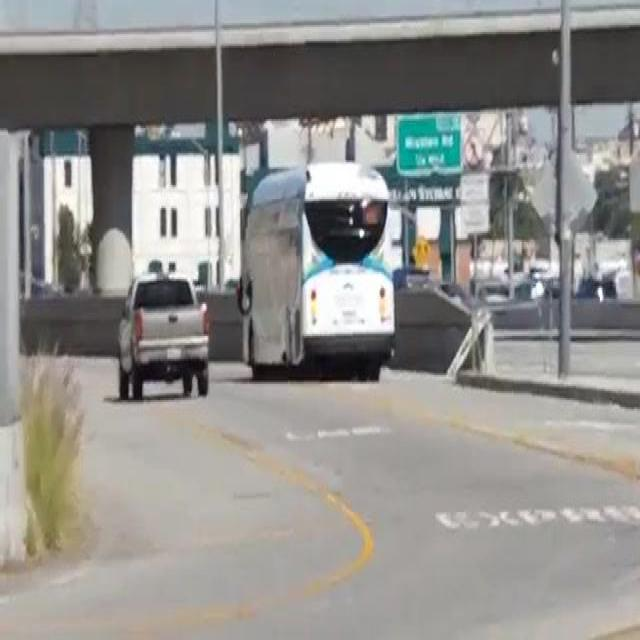motorcycle: (241, 166, 397, 372)
